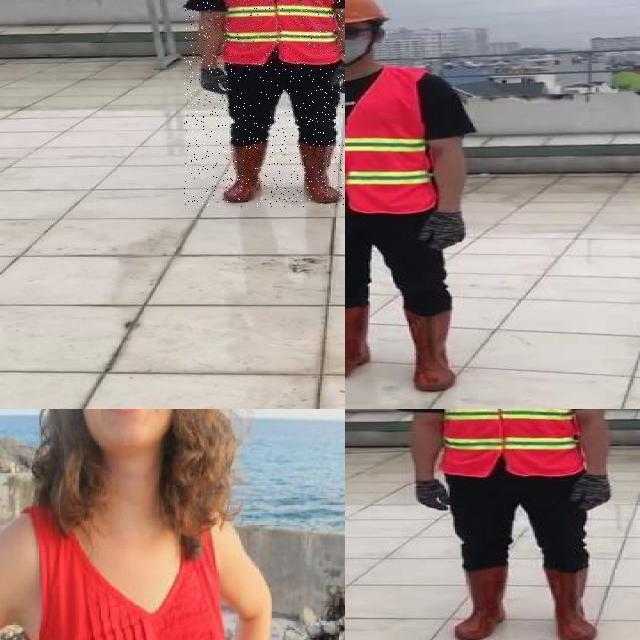boots: (402, 308, 462, 391), (452, 568, 510, 639), (545, 567, 599, 640), (295, 139, 343, 204), (220, 142, 270, 203), (345, 305, 371, 383)
face_mask: (345, 23, 370, 66)
glasses: (345, 24, 364, 44)
hand_glove: (417, 210, 465, 254), (572, 473, 612, 511), (414, 478, 452, 512)
head_helmet: (345, 0, 387, 29)
person: (0, 409, 272, 640), (345, 0, 493, 395), (395, 409, 626, 640), (184, 0, 345, 207)
vest: (345, 67, 439, 216), (430, 409, 584, 479), (215, 0, 345, 67)
